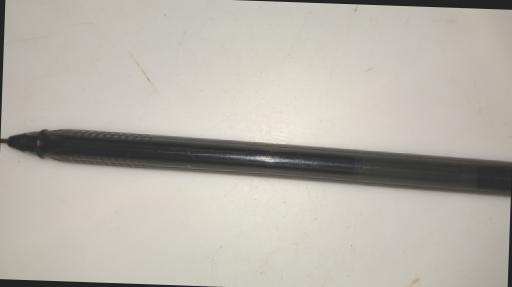pen: (0, 126, 512, 194)
